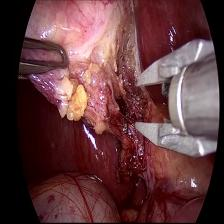Clipper: (129, 38, 224, 164)
Grasper: (11, 36, 73, 82)
